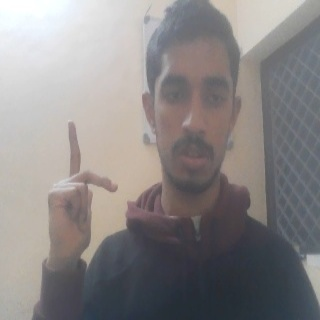Face: (139, 1, 244, 195)
Okay: (45, 118, 119, 265)
